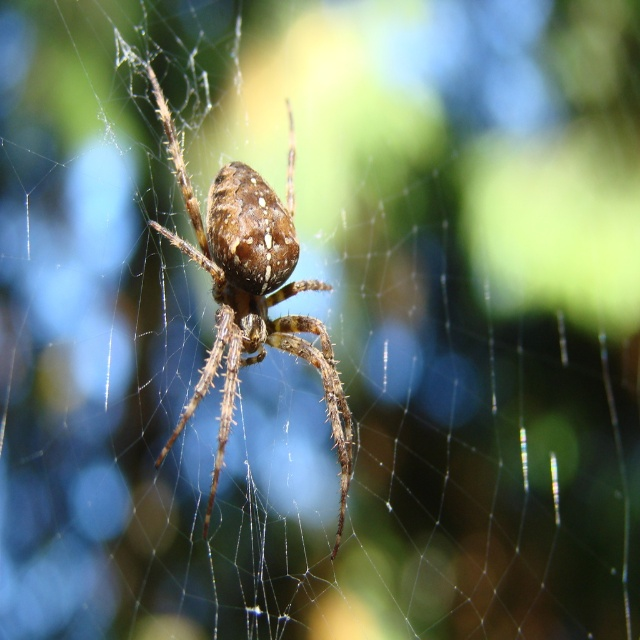Spider: (146, 65, 355, 560)
